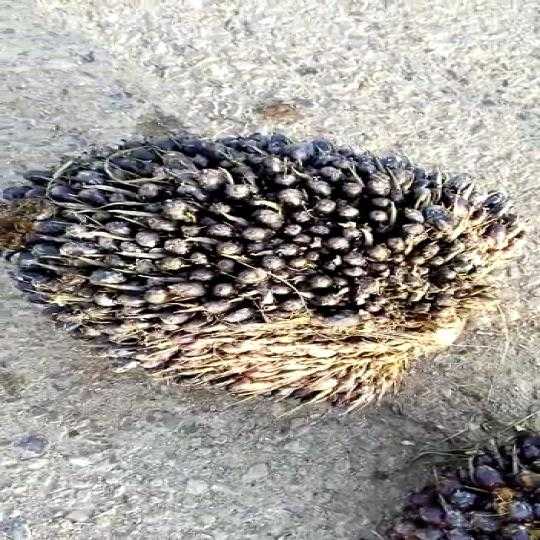mentah: (0, 113, 534, 410)
